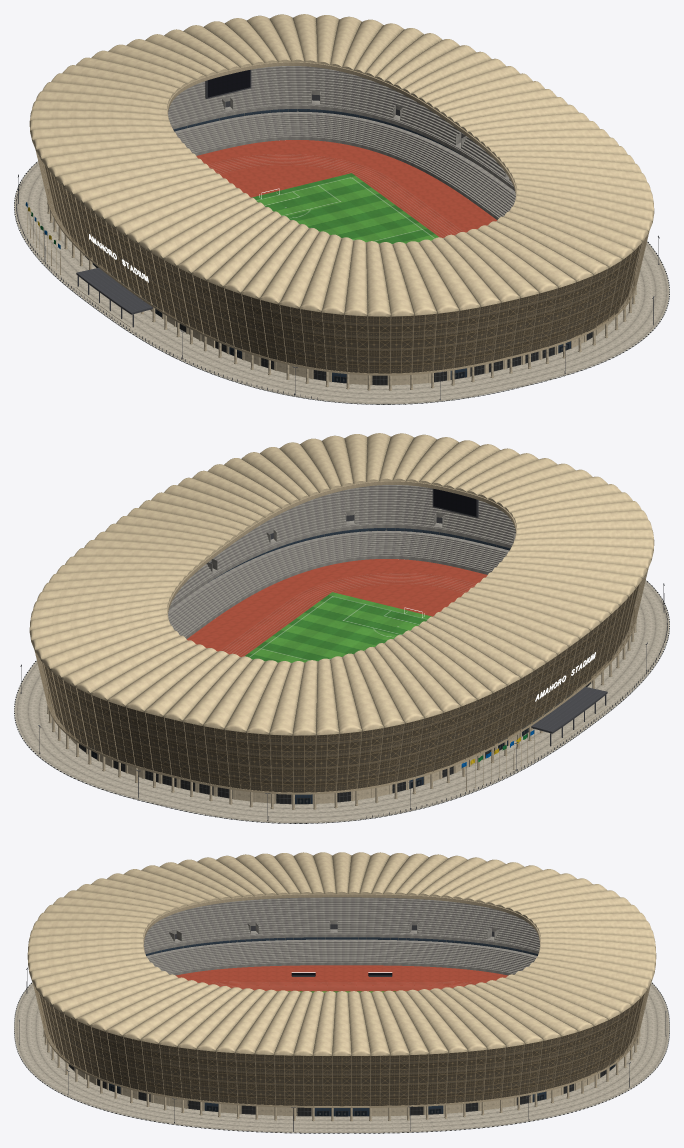
File: amahoro.glb
The picture shows the model from 3 angles, top to bottom: view 1: azimuth 30°, elevation 25°; view 2: azimuth 150°, elevation 25°; view 3: azimuth 270°, elevation 25°; orthographic projection. The views are drawn at different scales.
Parts seen in each view (by area): view 1: Roof_Membrane, Facade_Screen, Facade_Inner, Concrete, Paving, Metal_Light, Track_Red, Pitch, Stone, Track_Lanes, Entrance_Glazing, Metal_Dark (+2 smaller); view 2: Roof_Membrane, Facade_Screen, Facade_Inner, Concrete, Paving, Metal_Light, Track_Red, Pitch, Stone, Track_Lanes, Entrance_Glazing, Metal_Dark (+2 smaller); view 3: Roof_Membrane, Facade_Screen, Facade_Inner, Concrete, Paving, Metal_Light, Track_Red, Stone, Entrance_Glazing, Track_Lanes, Kerb, Metal_Dark.
Part boxes in pixels (box(x1,y1,x2,y2)): Roof_Membrane: box(29, 14, 654, 316); Facade_Screen: box(37, 153, 647, 373); Facade_Inner: box(45, 166, 641, 373); Concrete: box(168, 66, 515, 220); Paving: box(14, 160, 669, 403); Metal_Light: box(27, 61, 649, 375); Track_Red: box(196, 140, 496, 237); Pitch: box(252, 173, 438, 243); Stone: box(47, 189, 636, 390); Track_Lanes: box(208, 154, 463, 237); Entrance_Glazing: box(67, 109, 620, 385); Metal_Dark: box(16, 69, 659, 400); Roof_Membrane: box(29, 433, 654, 735); Facade_Screen: box(36, 572, 646, 792); Facade_Inner: box(42, 585, 638, 792); Concrete: box(168, 485, 515, 639); Paving: box(14, 579, 669, 822); Metal_Light: box(34, 480, 648, 794); Track_Red: box(187, 559, 487, 656); Pitch: box(245, 592, 431, 662); Stone: box(47, 608, 636, 809); Track_Lanes: box(220, 573, 475, 656); Entrance_Glazing: box(78, 528, 616, 804); Metal_Dark: box(20, 488, 667, 820); Roof_Membrane: box(27, 852, 656, 1055); Facade_Screen: box(35, 988, 648, 1106); Facade_Inner: box(40, 995, 643, 1105); Concrete: box(144, 897, 539, 975); Paving: box(14, 983, 669, 1132); Metal_Light: box(33, 894, 650, 1107); Track_Red: box(176, 965, 507, 991); Stone: box(43, 1012, 640, 1121); Entrance_Glazing: box(59, 937, 624, 1116); Track_Lanes: box(207, 981, 476, 990); Kerb: box(14, 982, 669, 1133); Metal_Dark: box(19, 924, 666, 1131).
Size of the model in its own units: 209 by 39.9 by 274.
17 materials, 16 textured.
